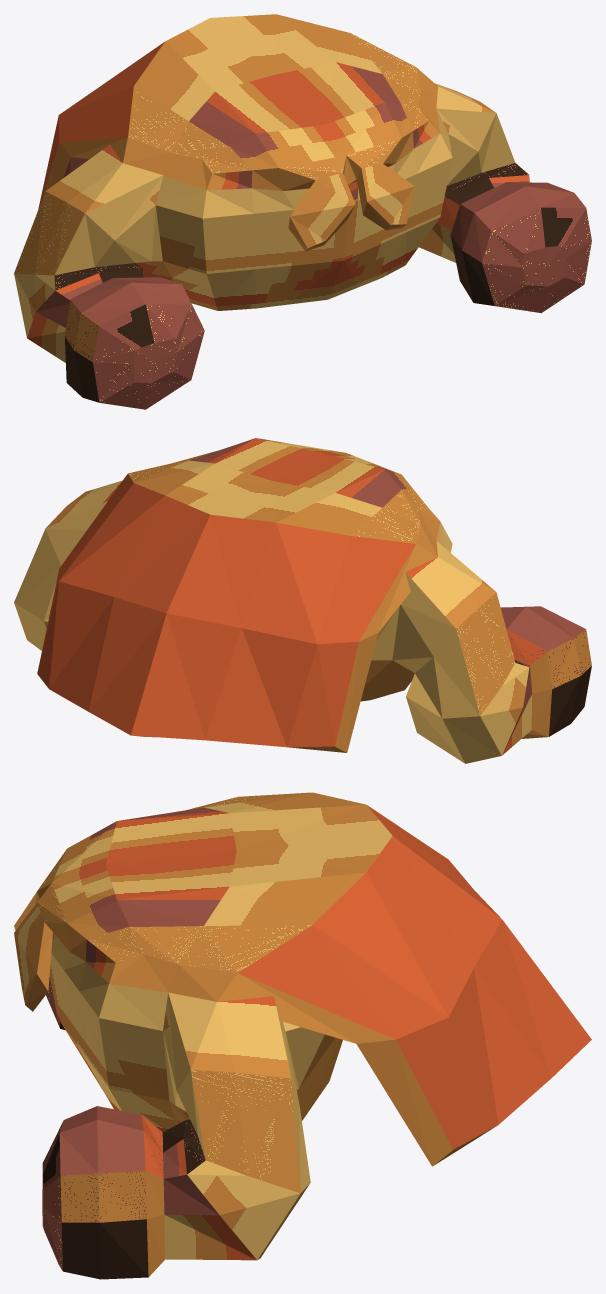
The picture shows the model from 3 angles, top to bottom: view 1: azimuth 30°, elevation 25°; view 2: azimuth 150°, elevation 25°; view 3: azimuth 270°, elevation 25°; orthographic projection. The views are drawn at different scales.
Visible parts, largest first — view 1: Sphere.019_Sphere.023; view 2: Sphere.019_Sphere.023; view 3: Sphere.019_Sphere.023.
Boxes of the visible parts, x1,y1,x2,y2 form: Sphere.019_Sphere.023: (14, 14, 591, 409); Sphere.019_Sphere.023: (14, 438, 591, 763); Sphere.019_Sphere.023: (14, 792, 591, 1279).
Bounding box in the file's own units: 1.15 × 0.5495 × 0.9101.
